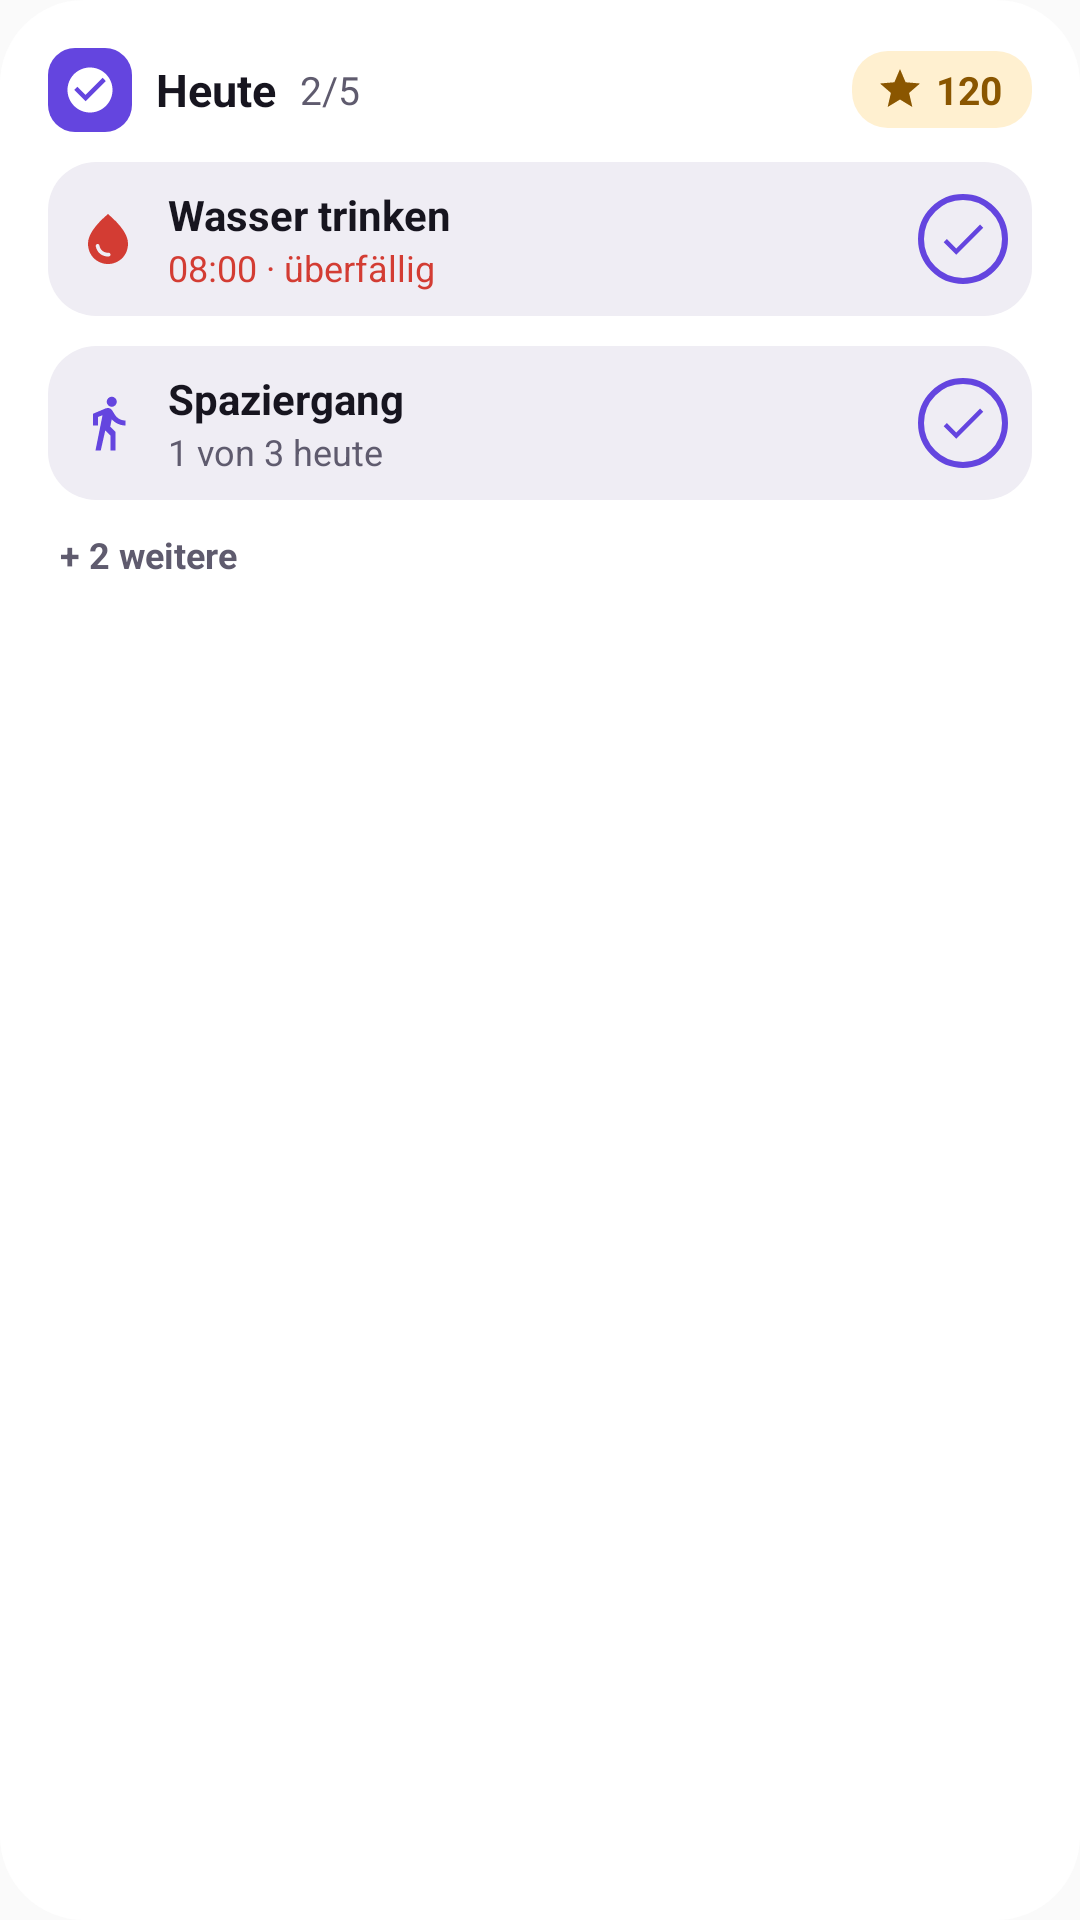

Locate icon controls on the screen. Image size 1080 × 1920, boxes as (x1=x1, y1=y1, x2=x2, y2=y2).
widget star: (x1=880, y1=69, x2=920, y2=107)
widget symbol directions walk: (x1=93, y1=396, x2=126, y2=451)
widget symbol water drop: (x1=88, y1=214, x2=128, y2=264)
